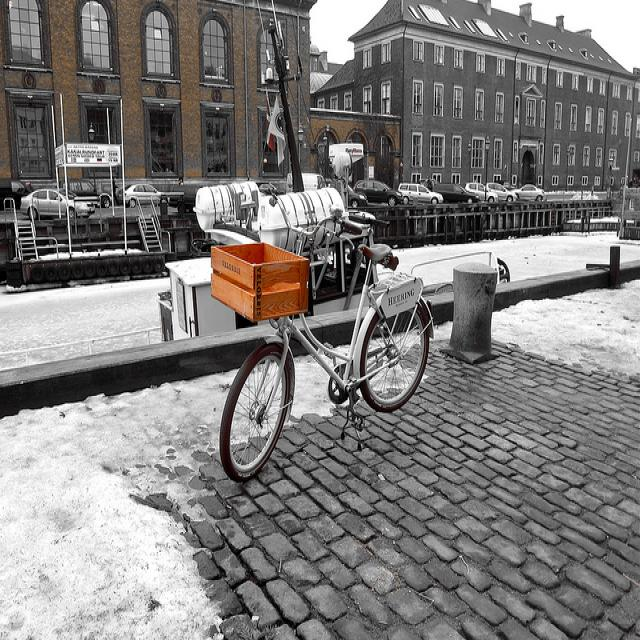Vehicle: (21, 189, 98, 222), (354, 177, 400, 208), (68, 177, 112, 209), (116, 184, 171, 208), (432, 181, 484, 203), (398, 183, 443, 206), (464, 182, 499, 203), (486, 182, 517, 201), (510, 185, 544, 202), (348, 184, 368, 207)
